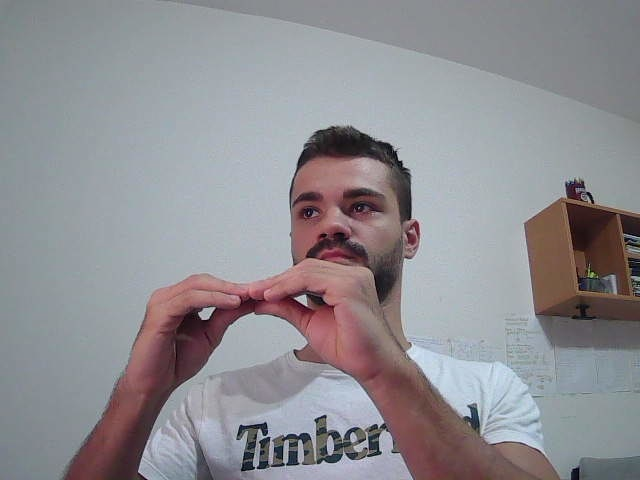b: (100, 254, 449, 393)
